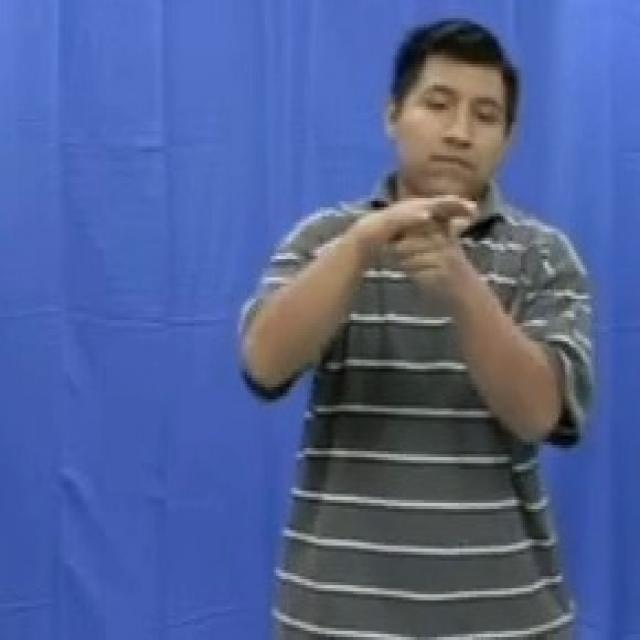coke: (327, 165, 500, 351)
